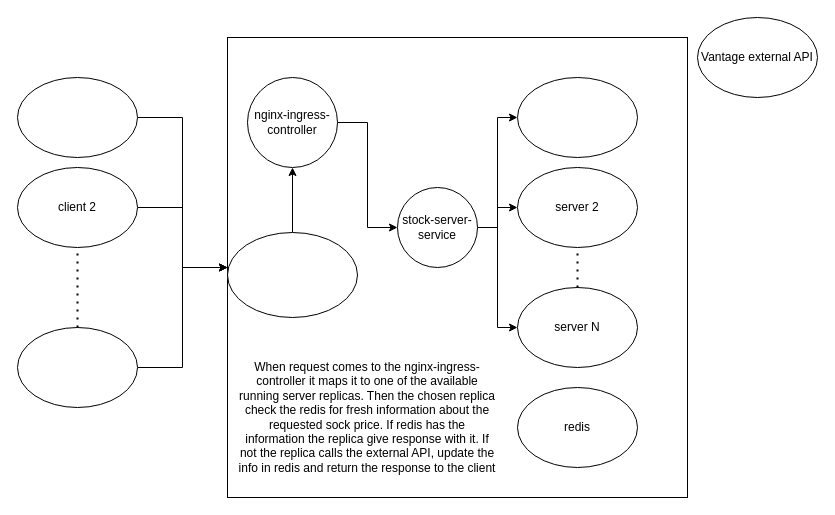
Image size: 835x515. Some labels were removed from this diagram. Here are the shapes that lost their labels. From the top down, the centre of each, then its label:
At (77,117): "client 1".
At (577,117): "server 1".
At (292,275): "NodePort ingress-nginx-controller".
At (77,367): "client N".
